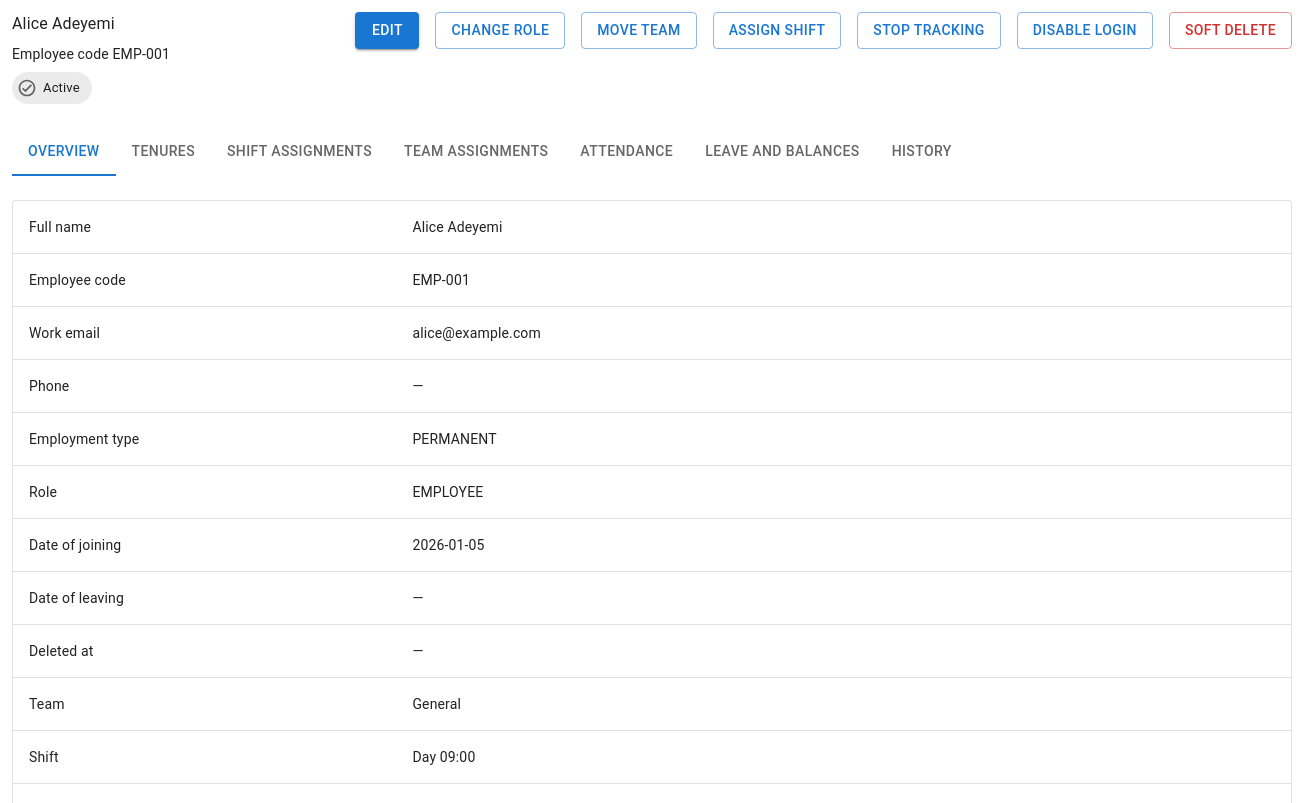
Test case: UserDetail › shows a shift assignment as a dated range rather than a current value
The width and height of the screenshot is (1304, 803).
Click the tab "Shift assignments": (300, 152) 211,128 -> 388,176
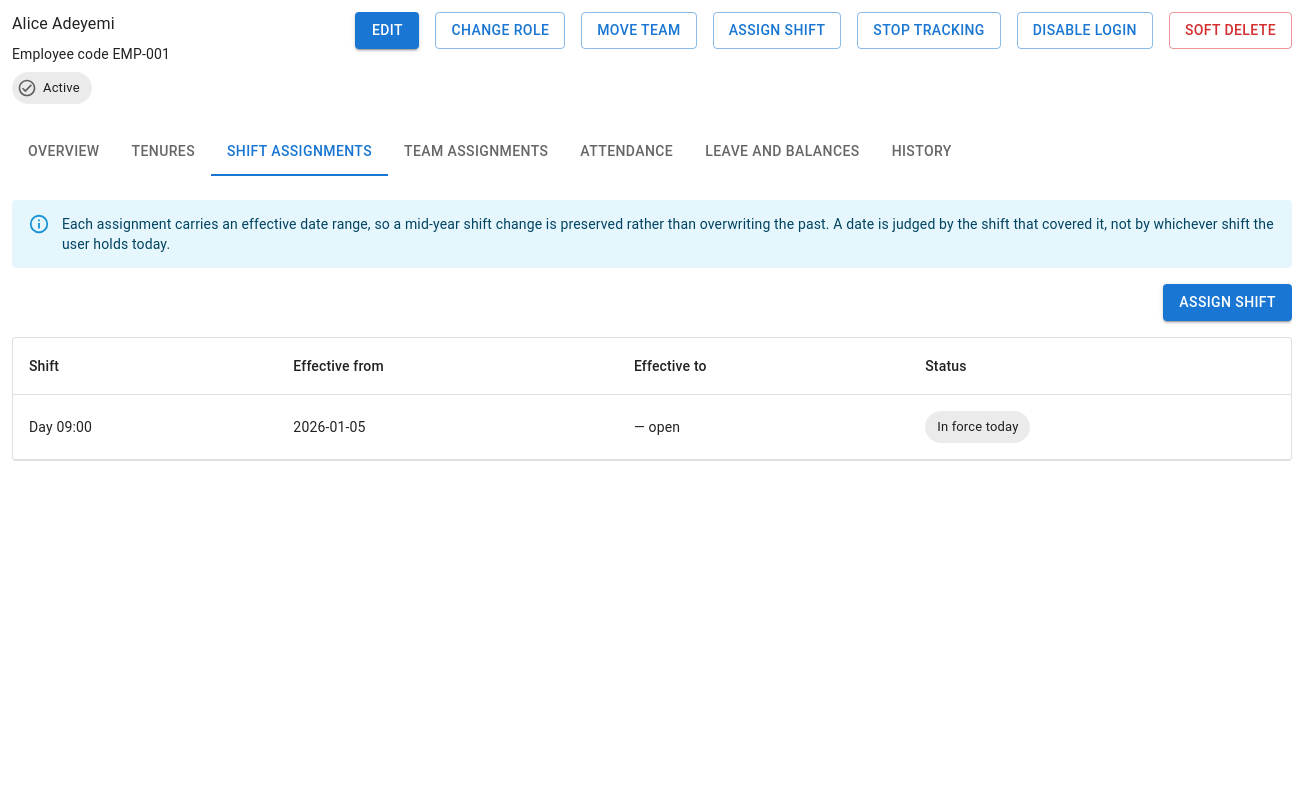
Expected: the text "2026-01-05" is shown, 293,418 -> 366,434
Expected: the text "— open" is shown, 634,418 -> 680,434
Expected: the text "In force today" is shown, 937,419 -> 1018,434
